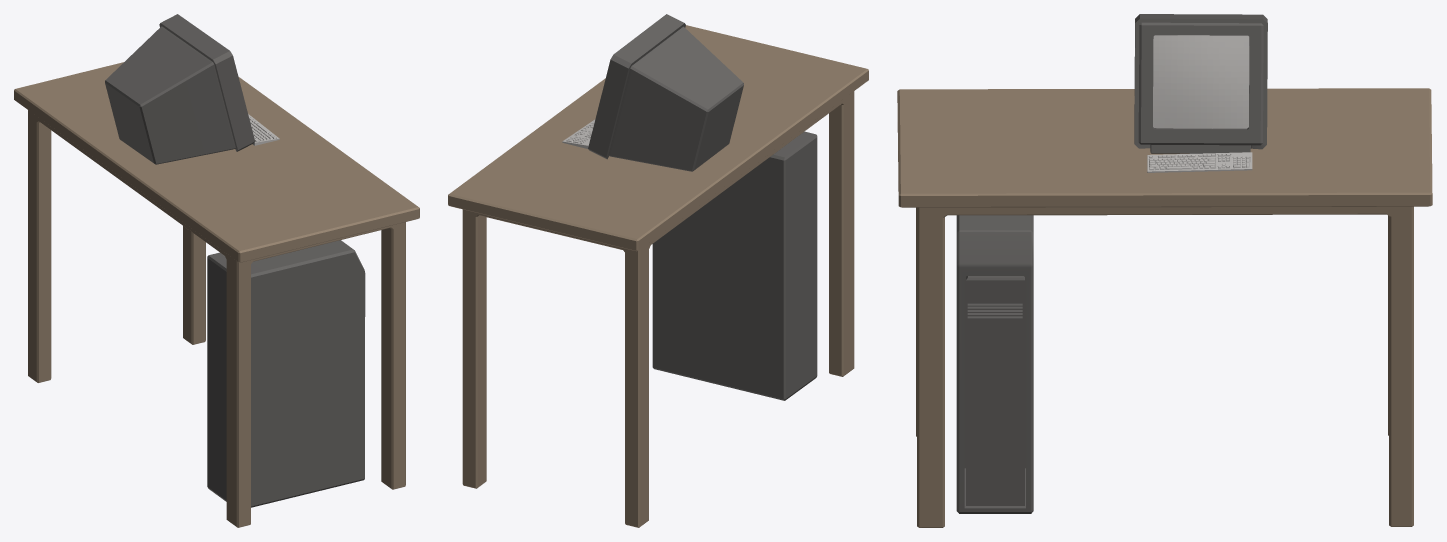
File: room1.fbx
3 renders of one model, left to right at view 1: azimuth 30°, elevation 25°; view 2: azimuth 150°, elevation 25°; view 3: azimuth 270°, elevation 25°, orthographic. The views are drawn at different scales.
Parts seen in each view (by area): view 1: desk, computer_base2, computer4; view 2: desk, computer_base2, computer4; view 3: desk, computer_base2, computer4, keyboard3.
Boxes of the visible parts, bbox=[...] form: desk: bbox=[14, 62, 419, 527]; computer_base2: bbox=[207, 240, 365, 507]; computer4: bbox=[105, 14, 255, 164]; desk: bbox=[448, 25, 868, 527]; computer_base2: bbox=[652, 131, 817, 400]; computer4: bbox=[588, 14, 743, 171]; desk: bbox=[897, 88, 1432, 527]; computer_base2: bbox=[956, 215, 1033, 513]; computer4: bbox=[1134, 14, 1267, 153]; keyboard3: bbox=[1147, 152, 1252, 172].
Bounding box in the file's own units: 3.11 × 6.28 × 6.59.
